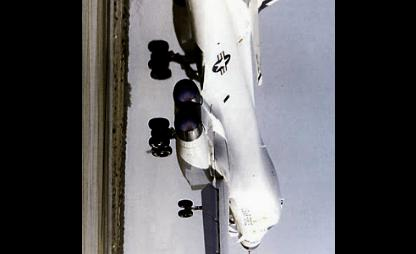AV8B: (145, 0, 332, 251)
